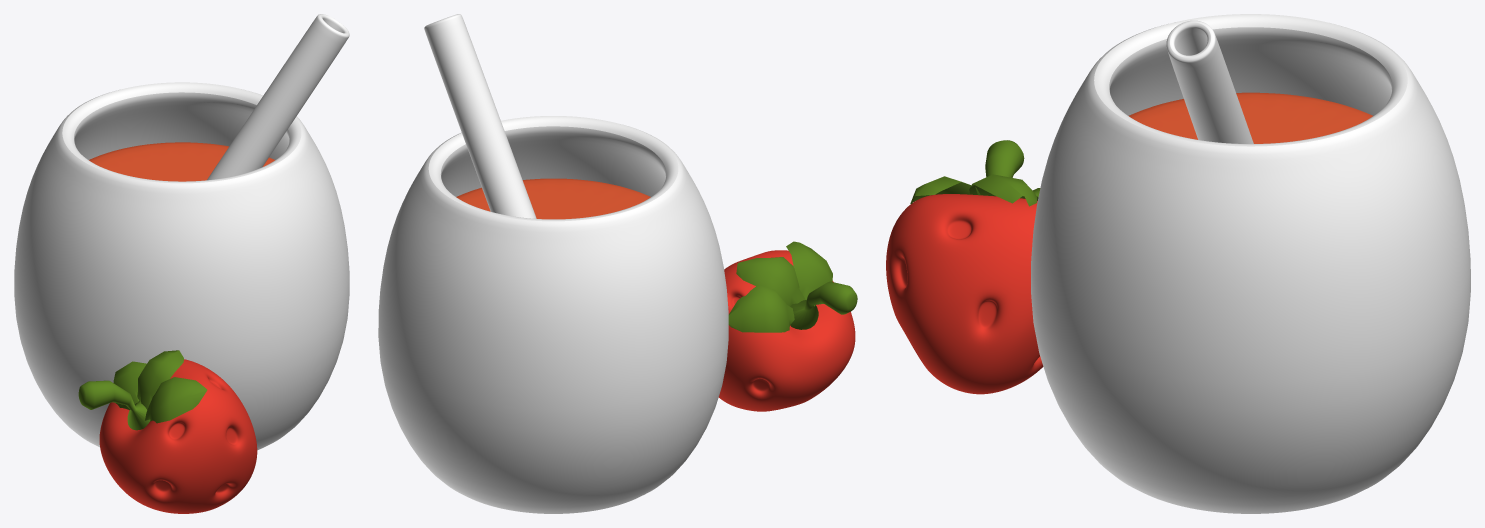
Rendered from drink4.glb.
3 views of the same model, side by side, from view 1: azimuth 30°, elevation 25°; view 2: azimuth 150°, elevation 25°; view 3: azimuth 270°, elevation 25° (orthographic). The views are drawn at different scales.
Parts seen in each view (by area): view 1: Cylinder.007, Cube.077, Circle.090, Cylinder.010, Plane.008, Circle.089; view 2: Cylinder.007, Cube.077, Circle.090, Plane.008, Cylinder.010, Circle.089; view 3: Cylinder.007, Cube.077, Cylinder.010, Circle.090, Plane.008, Circle.089.
Part boxes in pixels (x1,y1,x2,y2): Cylinder.007: [14, 82, 349, 450]; Cube.077: [99, 359, 257, 513]; Circle.090: [207, 14, 349, 180]; Cylinder.010: [89, 142, 274, 181]; Plane.008: [113, 350, 207, 423]; Circle.089: [78, 380, 150, 430]; Cylinder.007: [378, 116, 728, 513]; Cube.077: [718, 250, 855, 411]; Circle.090: [424, 14, 536, 218]; Plane.008: [728, 241, 832, 332]; Cylinder.010: [456, 178, 650, 219]; Circle.089: [790, 281, 857, 329]; Cylinder.007: [1031, 14, 1470, 513]; Cube.077: [886, 194, 1043, 394]; Cylinder.010: [1129, 92, 1372, 143]; Circle.090: [1166, 20, 1253, 143]; Plane.008: [910, 174, 1040, 206]; Circle.089: [985, 140, 1024, 177].
Bounding box in the file's own units: 7.11 × 7.87 × 8.09.
